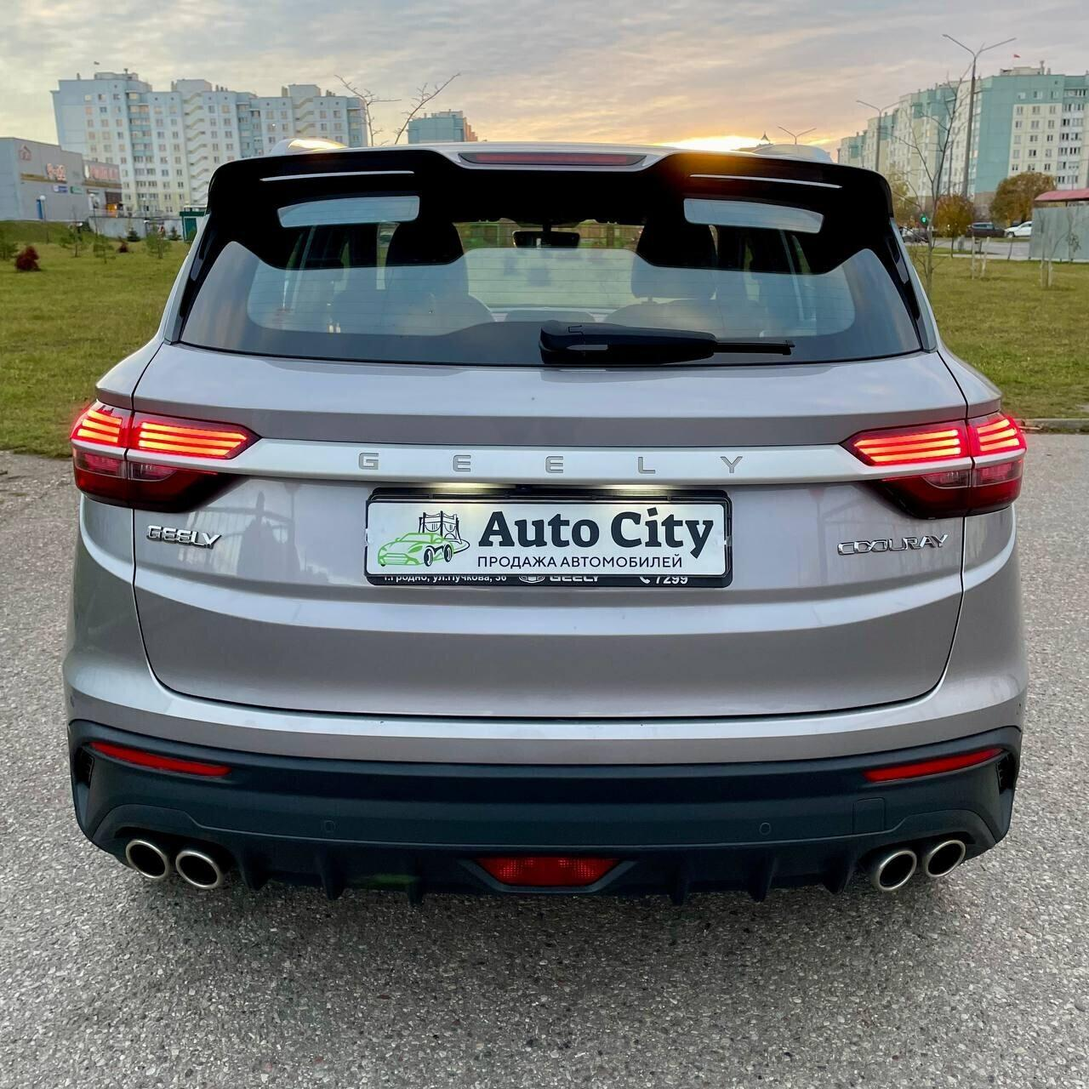Coolray_2019-2023: (54, 128, 1024, 936)
